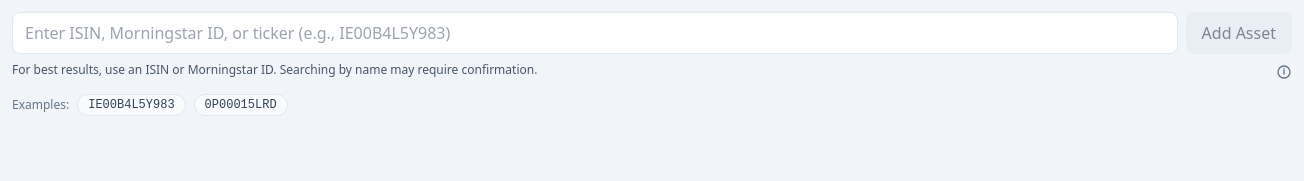
Test: AssetInput › duplicate detection › should show error when entering duplicate identifier
Type "IE00B4L5Y983" into the field named "Asset identifier input" at (595, 33), box [12, 12, 1178, 54]
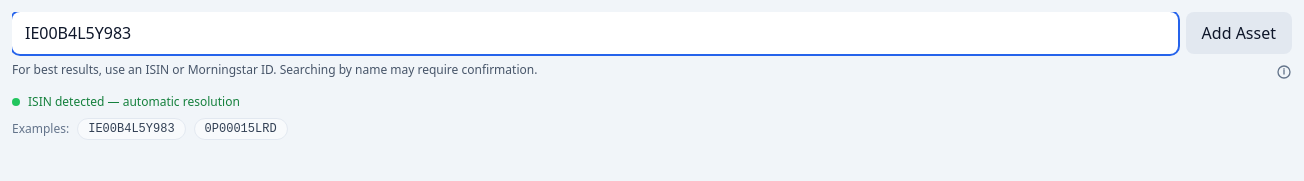
Click the button "Add Asset" at (1239, 33), box [1186, 12, 1292, 54]
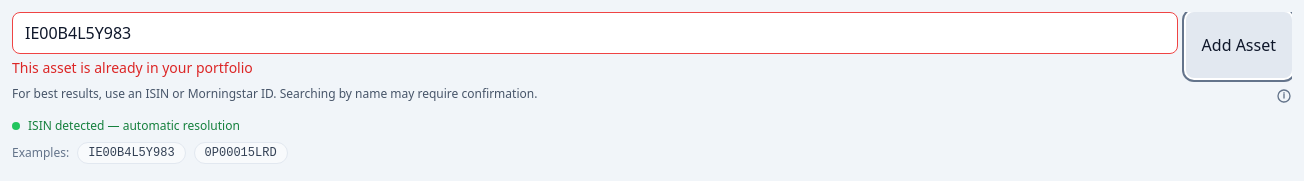
Expected: the text "This asset is already in your portfolio" is shown, [12, 58, 253, 77]
